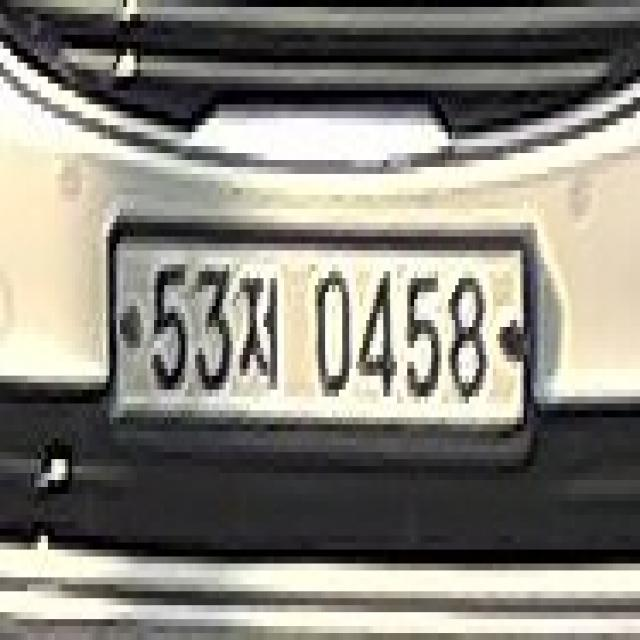0: (308, 257, 356, 403)
3: (185, 251, 243, 404)
4: (346, 250, 404, 418)
5: (400, 264, 445, 418), (150, 258, 192, 390)
8: (445, 264, 493, 410)
jeo: (226, 264, 291, 390)
license_plate: (95, 195, 548, 473)
